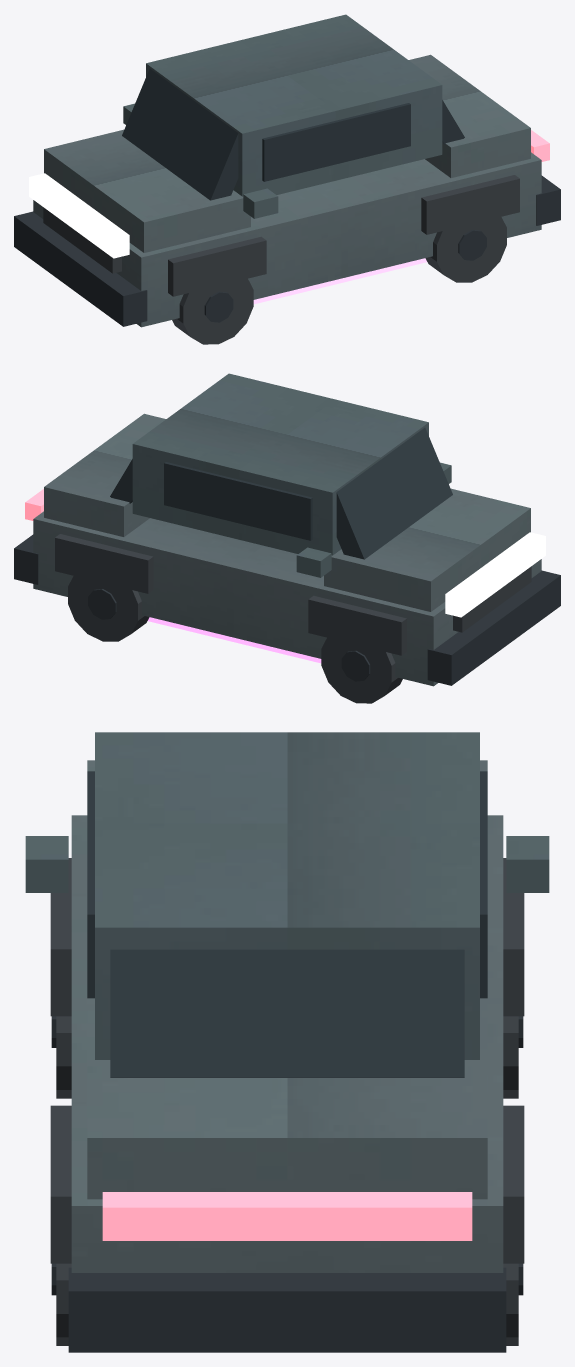
The model's file is decor-car.glb.
The picture shows the model from 3 angles, top to bottom: view 1: azimuth 30°, elevation 25°; view 2: azimuth 150°, elevation 25°; view 3: azimuth 270°, elevation 25°; orthographic projection. The views are drawn at different scales.
Parts seen in each view (by area): view 1: DecorCar; view 2: DecorCar; view 3: DecorCar.
Boxes of the visible parts, x1,y1,x2,y2 form: DecorCar: (14, 14, 560, 344); DecorCar: (14, 373, 560, 703); DecorCar: (25, 732, 549, 1352).
Size of the model in its own units: 0.328 by 0.14 by 0.17.
8 materials, 2 textured.
